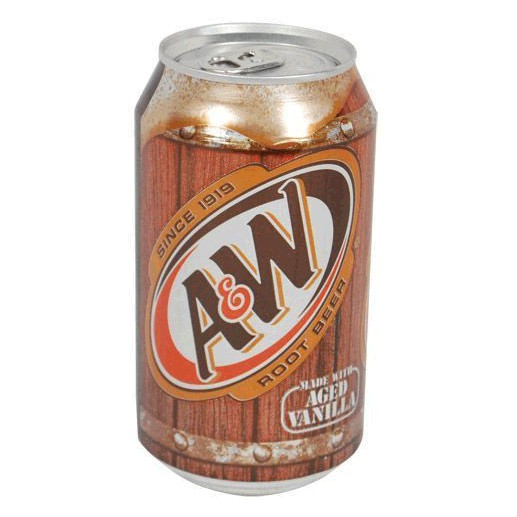beer can: (133, 21, 364, 493)
